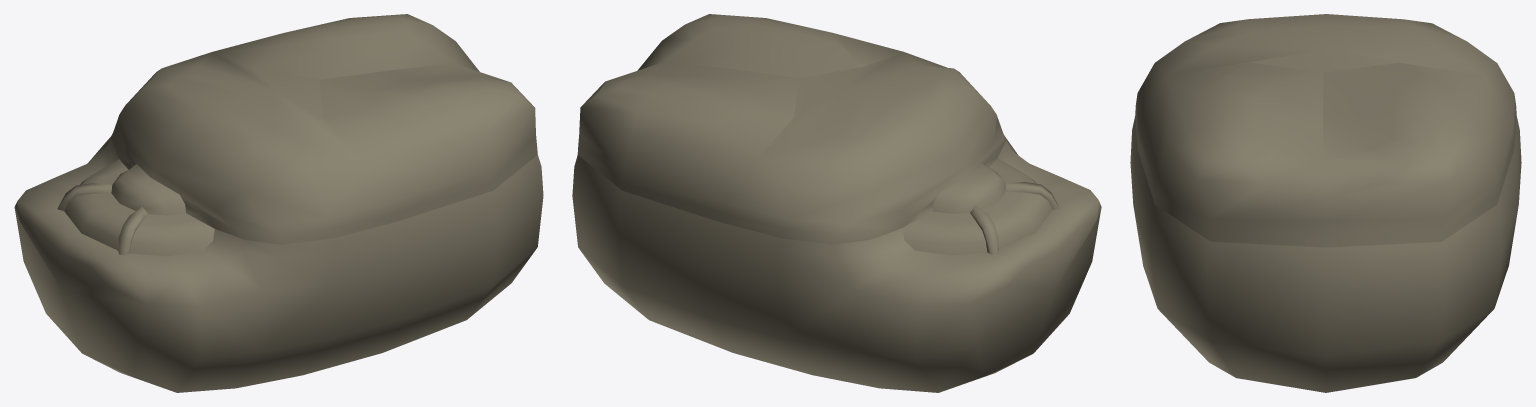
Rendered from Scarrab.fbx.
The picture shows the model from 3 angles, left to right: view 1: azimuth 30°, elevation 25°; view 2: azimuth 150°, elevation 25°; view 3: azimuth 270°, elevation 25°; orthographic projection. The views are drawn at different scales.
Parts seen in each view (by area): view 1: Scarrab 1; view 2: Scarrab 1; view 3: Scarrab 1.
Boxes of the visible parts, <box> form: Scarrab 1: <box>14,14,543,392</box>; Scarrab 1: <box>572,14,1101,392</box>; Scarrab 1: <box>1130,14,1521,392</box>.
Bounding box in the file's own units: 86.33 × 47.62 × 60.18.
